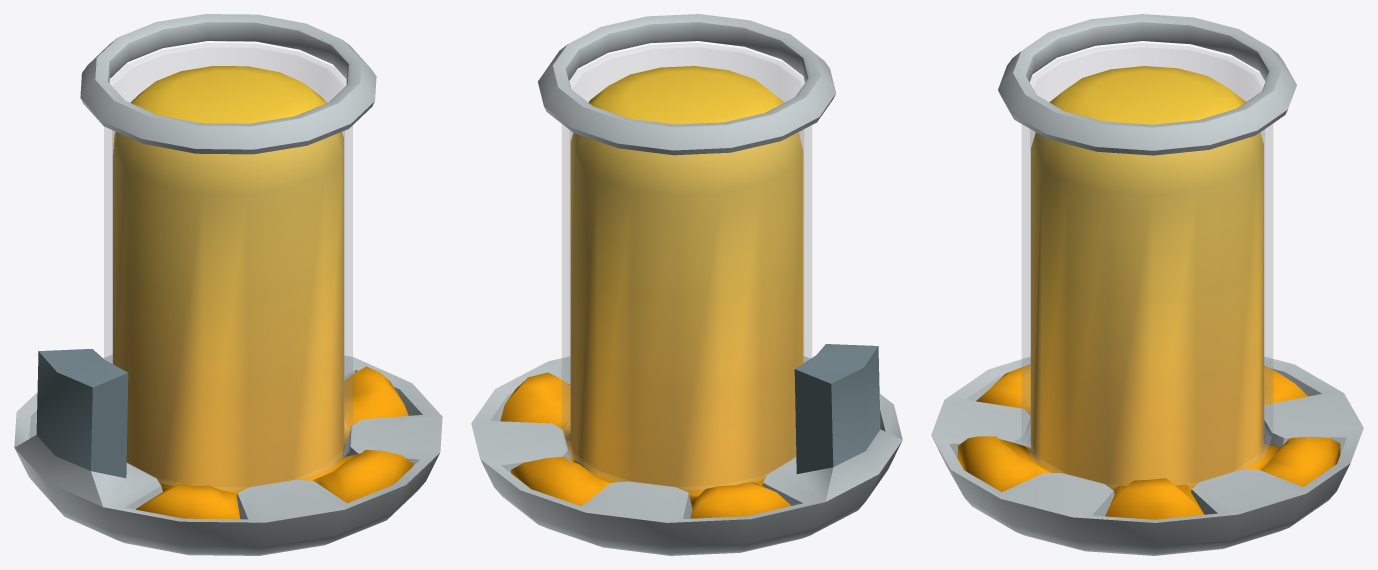
File: ChickenFood.fbx
The picture shows the model from 3 angles, left to right: view 1: azimuth 30°, elevation 25°; view 2: azimuth 150°, elevation 25°; view 3: azimuth 270°, elevation 25°; orthographic projection.
Visible parts, largest first — view 1: FoodCap, Food; view 2: FoodCap, Food; view 3: FoodCap, Food.
Part boxes in pixels (<box>): FoodCap: <box>14,14,442,555</box>; Food: <box>113,66,413,519</box>; FoodCap: <box>471,14,902,555</box>; Food: <box>500,66,803,518</box>; FoodCap: <box>931,14,1363,555</box>; Food: <box>957,66,1340,519</box>.
Size of the model in its own units: 0.2913 by 0.306 by 0.2913.
